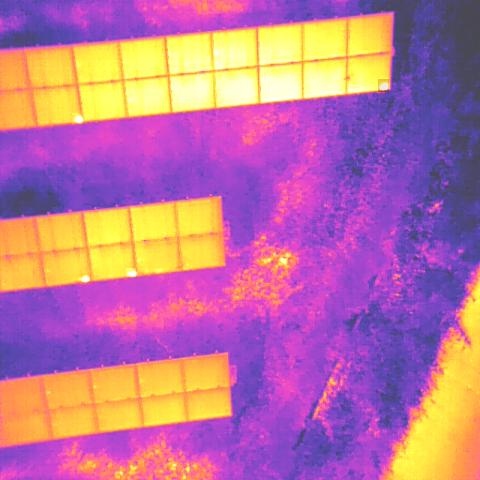fault: (378, 79, 389, 92), (77, 273, 91, 283), (72, 113, 83, 124), (126, 268, 136, 277)
